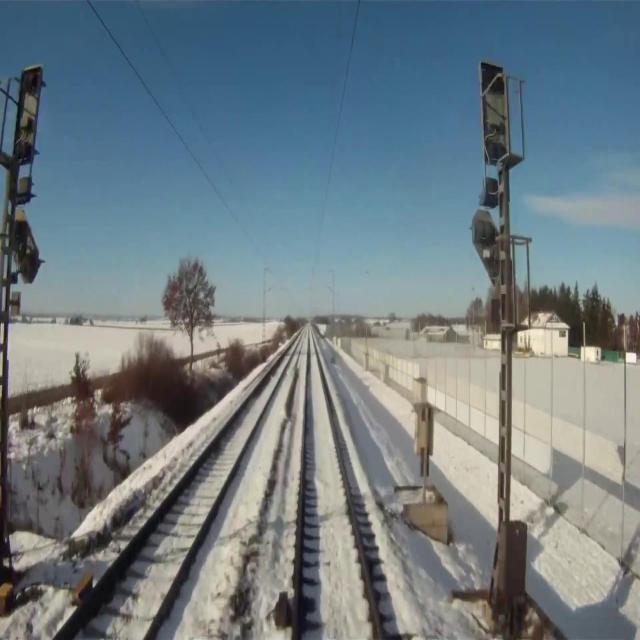rail-track: (59, 339, 297, 639), (301, 332, 378, 639)
